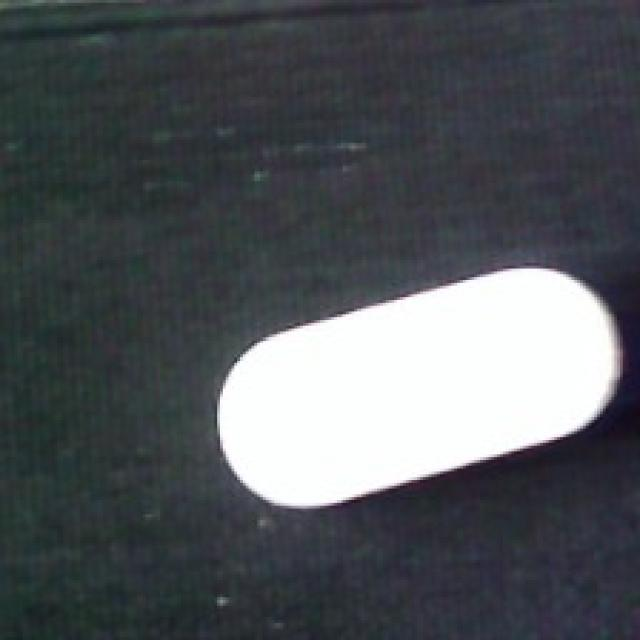no-defect: (211, 265, 626, 508)
